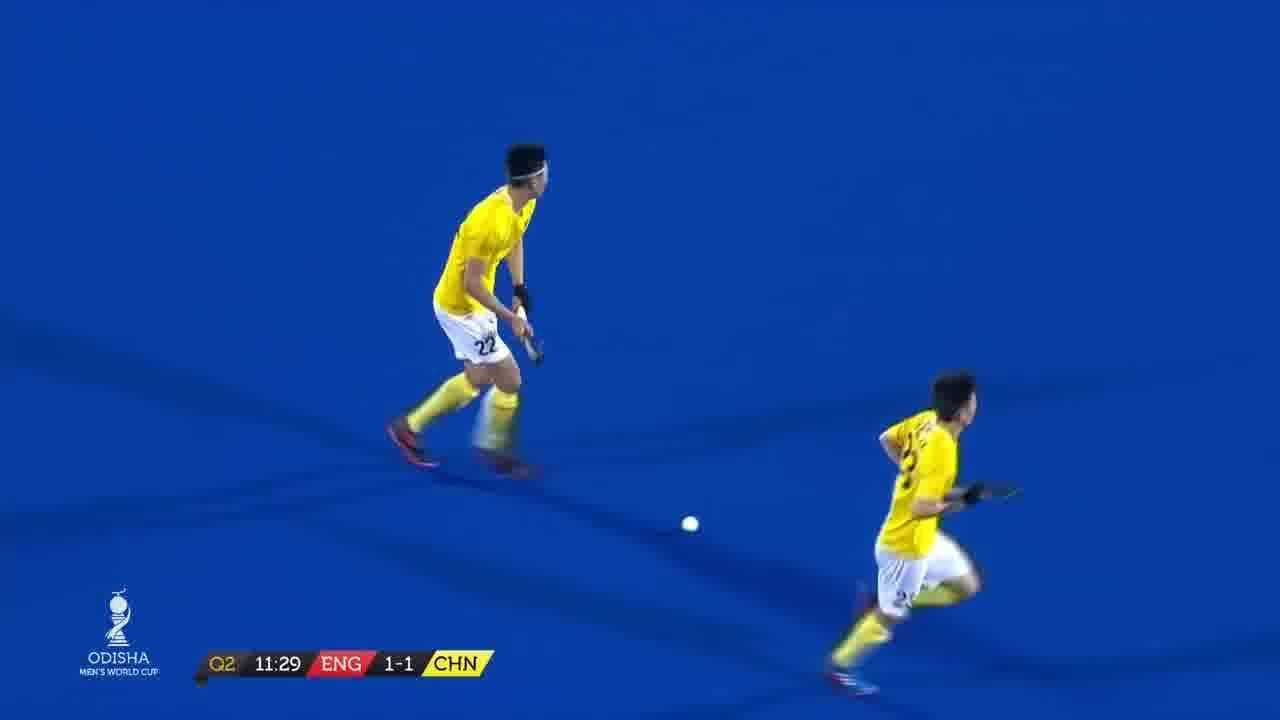ball: (678, 512, 706, 538)
